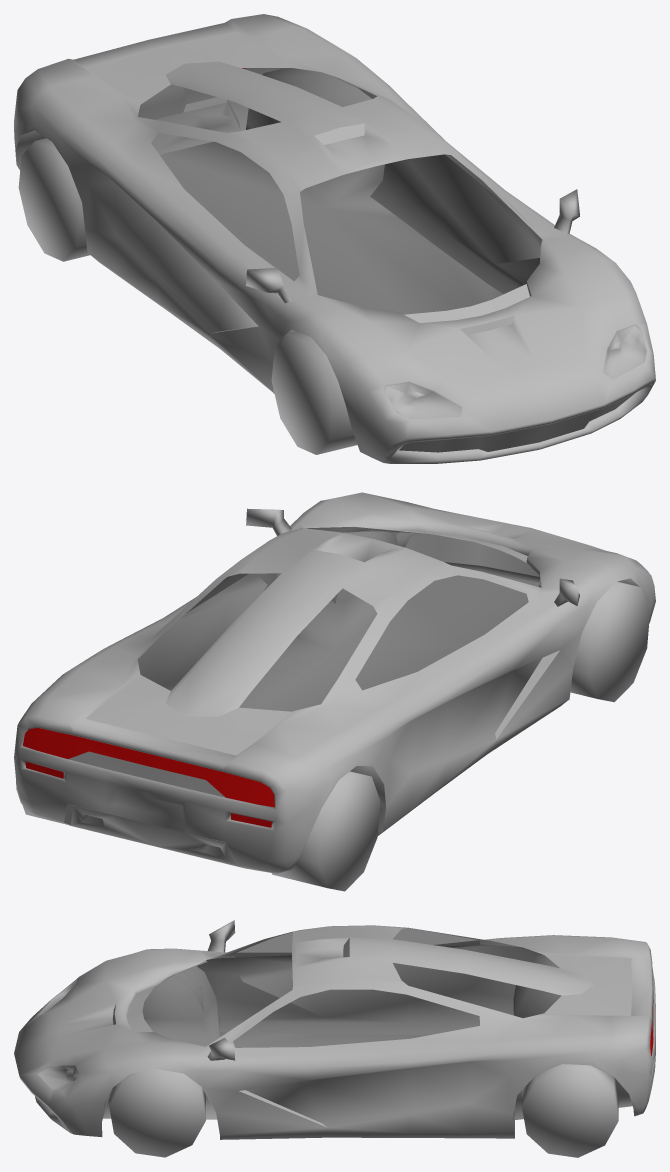
Rendered from Car_52_LOD1.FBX.
The picture shows the model from 3 angles, top to bottom: view 1: azimuth 30°, elevation 25°; view 2: azimuth 150°, elevation 25°; view 3: azimuth 270°, elevation 25°; orthographic projection. The views are drawn at different scales.
Parts seen in each view (by area): view 1: Body_052_LOD1, Matte_052_LOD1, Glass_052_LOD1, Wheel_R_LOD1, Wheel_Back_R_LOD1; view 2: Body_052_LOD1, Matte_052_LOD1, Glass_052_LOD1, Wheel_Back_R_LOD1, Wheel_R_LOD1, Taillights_052_LOD1; view 3: Body_052_LOD1, Glass_052_LOD1, Matte_052_LOD1, Wheel_Back_L_LOD1, Wheel_L_LOD1, Wheel_R_LOD1.
Boxes of the visible parts, <box> form: Body_052_LOD1: <box>14,14,655,463</box>; Matte_052_LOD1: <box>15,31,646,452</box>; Glass_052_LOD1: <box>138,68,541,314</box>; Wheel_R_LOD1: <box>271,332,357,454</box>; Wheel_Back_R_LOD1: <box>18,138,90,261</box>; Body_052_LOD1: <box>14,492,655,873</box>; Matte_052_LOD1: <box>68,508,639,867</box>; Glass_052_LOD1: <box>138,527,541,711</box>; Wheel_Back_R_LOD1: <box>272,771,380,891</box>; Wheel_R_LOD1: <box>570,581,649,702</box>; Taillights_052_LOD1: <box>22,728,274,827</box>; Body_052_LOD1: <box>14,925,655,1139</box>; Glass_052_LOD1: <box>143,928,560,1047</box>; Matte_052_LOD1: <box>39,920,654,1137</box>; Wheel_Back_L_LOD1: <box>522,1064,618,1157</box>; Wheel_L_LOD1: <box>109,1068,205,1157</box>; Wheel_R_LOD1: <box>172,971,204,1011</box>.
Size of the model in its own units: 2.03 by 1.14 by 4.31.
